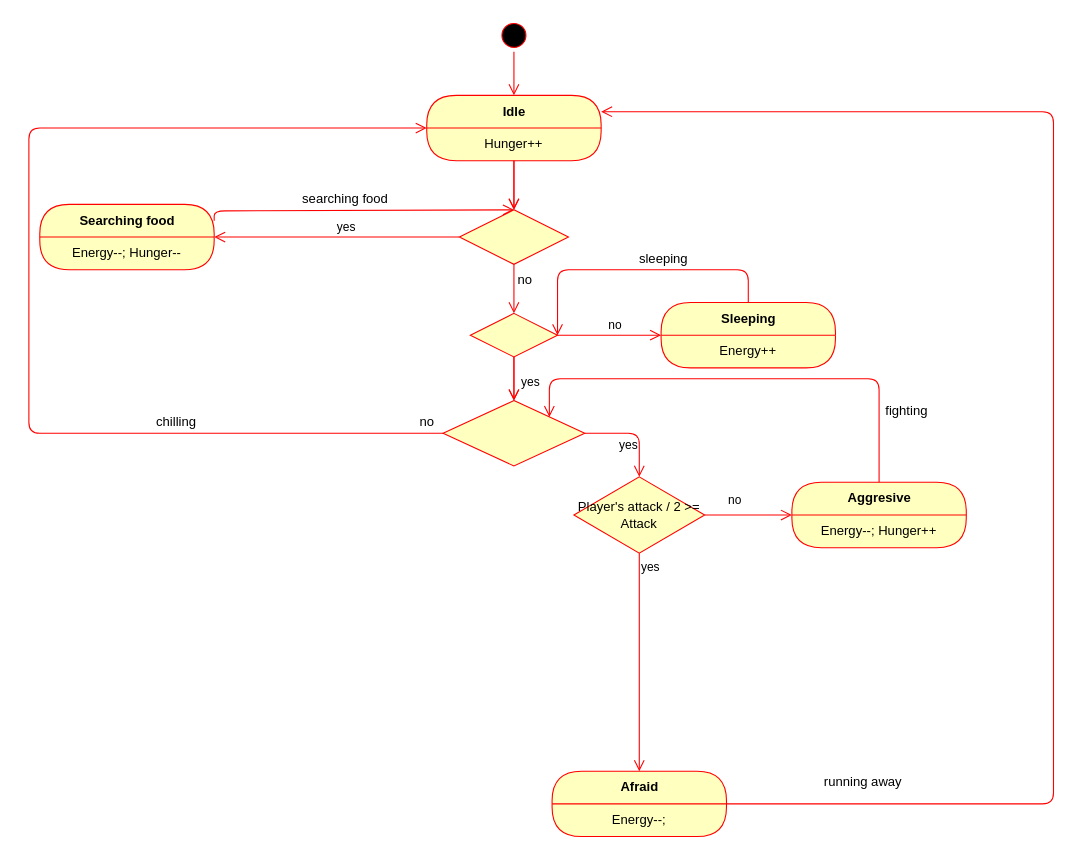
Some shapes in this 1083 by 856 pixel diagram are drawn without their labels. The centre of each missing label's shape, as x and y in pixels:
"Energy>=5" goes at pixel 513 334.
"Hunger>=5" goes at pixel 513 236.
"Is there a player nearby?" goes at pixel 513 432.
